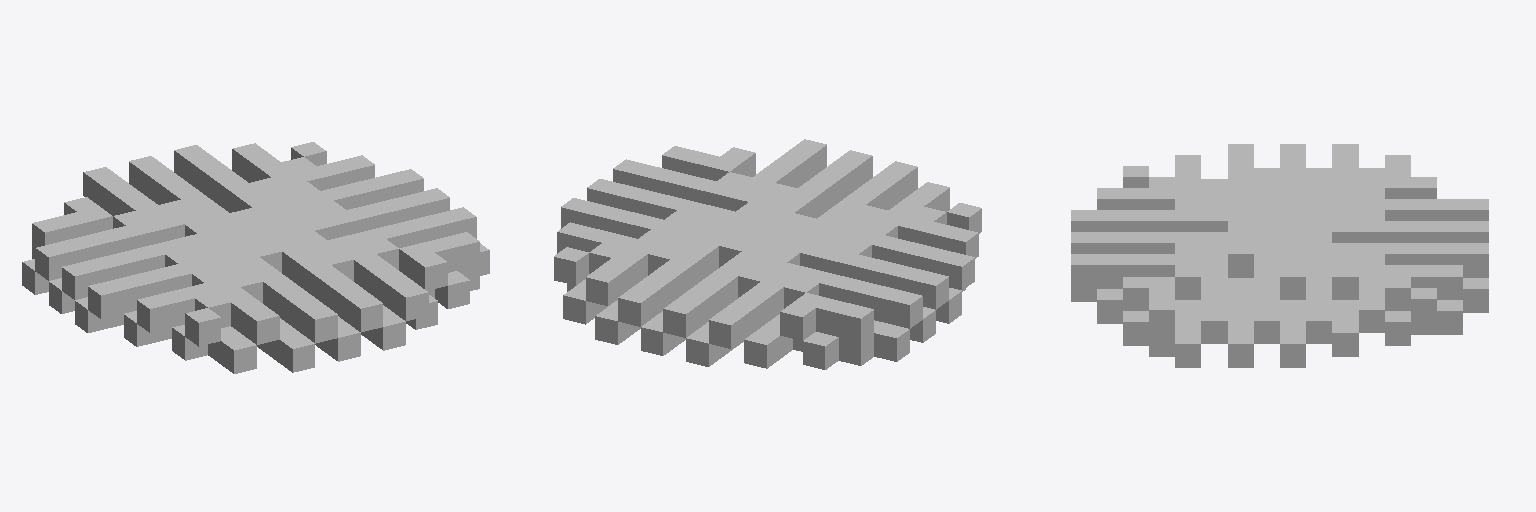
File: Lettuce.obj
3 renders of one model, left to right at view 1: azimuth 30°, elevation 25°; view 2: azimuth 150°, elevation 25°; view 3: azimuth 270°, elevation 25°, orthographic.
Parts seen in each view (by area): view 1: object 1; view 2: object 1; view 3: object 1.
Part boxes in pixels (bbox=[...]): object 1: bbox=[22, 142, 489, 373]; object 1: bbox=[554, 139, 981, 369]; object 1: bbox=[1071, 144, 1488, 367].
Bounding box in the file's own units: 1.6 × 0.2 × 1.6.